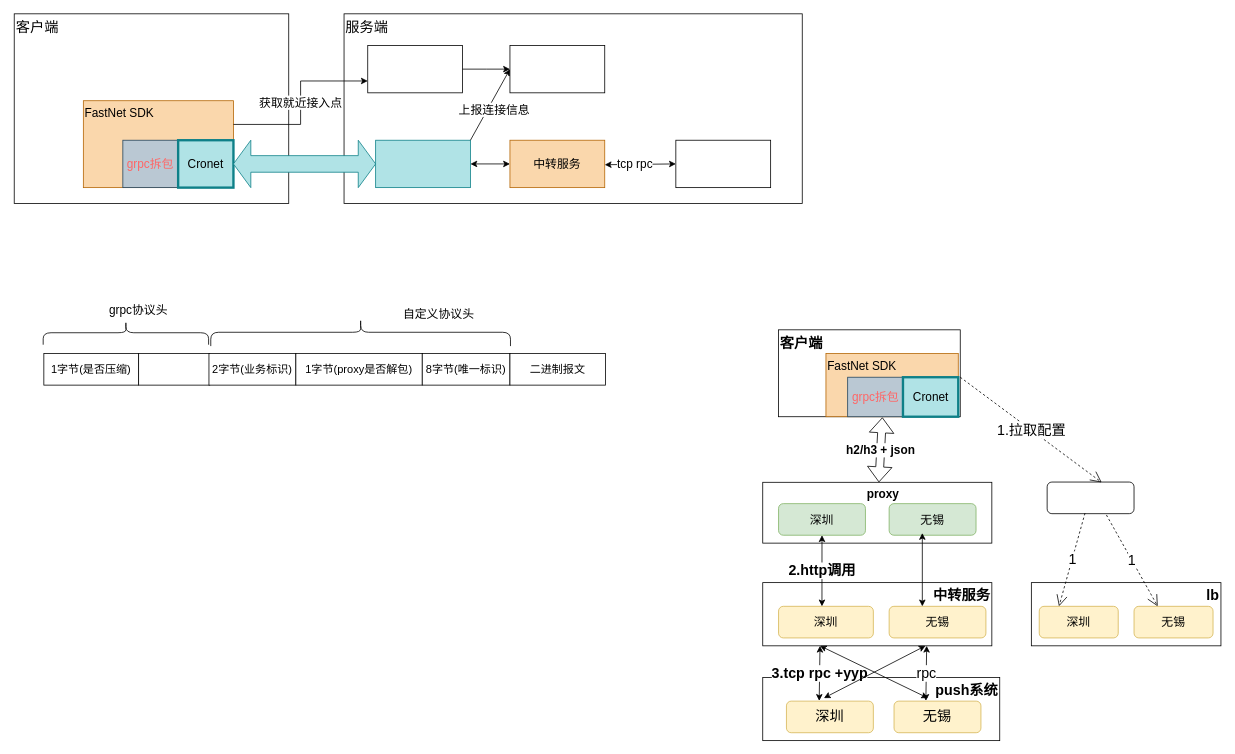
The diagram is 1235 pixels wide and 754 high, and some of its shapes have lost their labels. The centre of each missing label's shape, as x and y in pixels:
4字节(长度): pixel 174 369
grpc proxy: pixel 422 163
h2/h3: pixel 304 163
httpconfig: pixel 557 69
nginx: pixel 1090 497
push服务: pixel 723 163
web nginx: pixel 415 69
